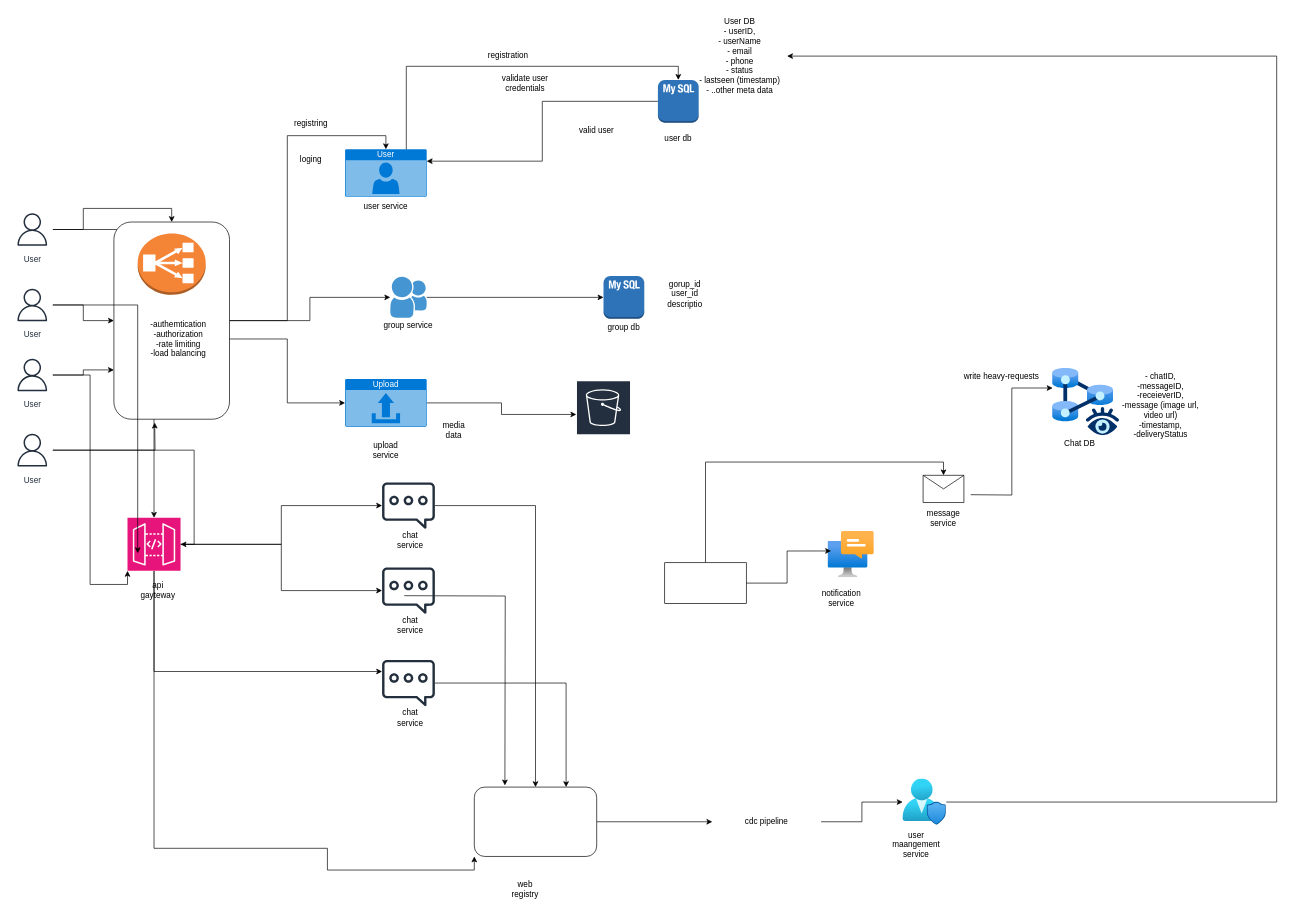
The diagram is 1294 pixels wide and 911 high, and some of its shapes have lost their labels. The box of each missing label's shape, as (x1, y1, x2, y2) in pixels:
Amazon S3: (576, 380, 631, 448)
kafka: (664, 562, 746, 604)
user 1: web socket 1, ttl user 2: web socket 2, ttl: (474, 786, 597, 856)
